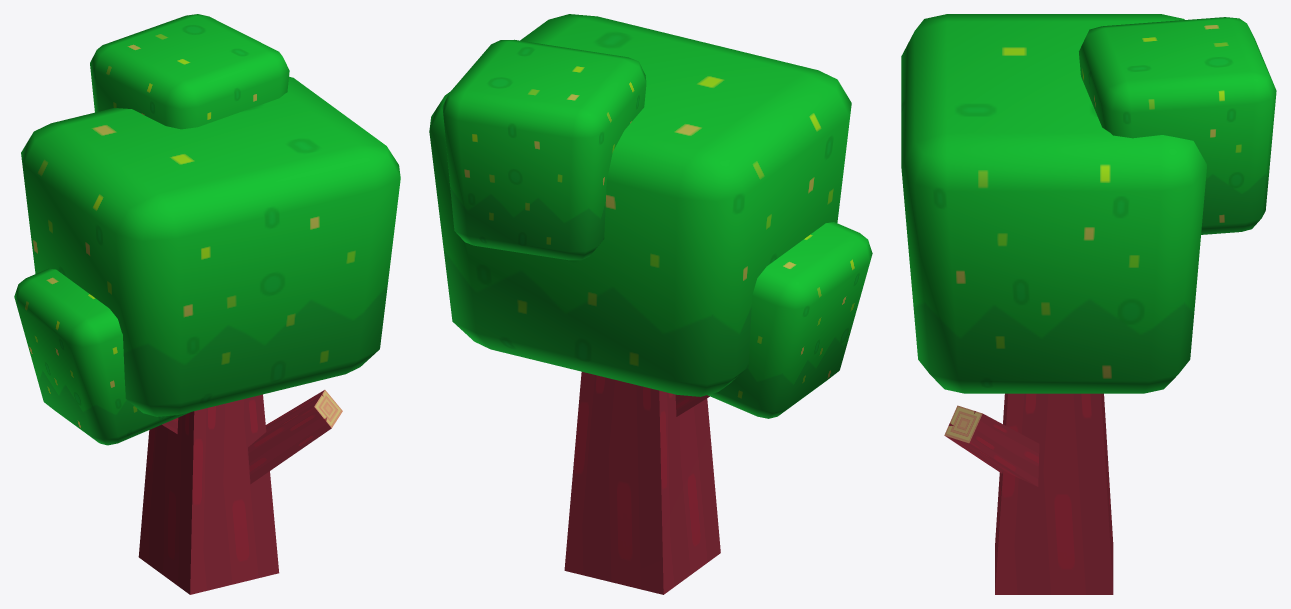
Rendered from BG_004_tree.FBX.
3 views of the same model, side by side, from view 1: azimuth 30°, elevation 25°; view 2: azimuth 150°, elevation 25°; view 3: azimuth 270°, elevation 25° (orthographic). The views are drawn at different scales.
Parts seen in each view (by area): view 1: tree_01, bough_01, tree_03, tree_02; view 2: tree_01, tree_03, bough_01, tree_02; view 3: tree_01, tree_03, bough_01.
Part boxes in pixels (x1,y1,x2,y2): tree_01: (21,76,400,416); bough_01: (138,390,342,594); tree_03: (90,14,289,129); tree_02: (14,268,190,445); tree_01: (429,14,851,396); tree_03: (442,39,646,260); bough_01: (564,372,720,594); tree_02: (707,222,872,418); tree_01: (901,14,1206,393); tree_03: (1079,17,1276,234); bough_01: (944,393,1113,594).
Size of the model in its own units: 444 by 630 by 397.
